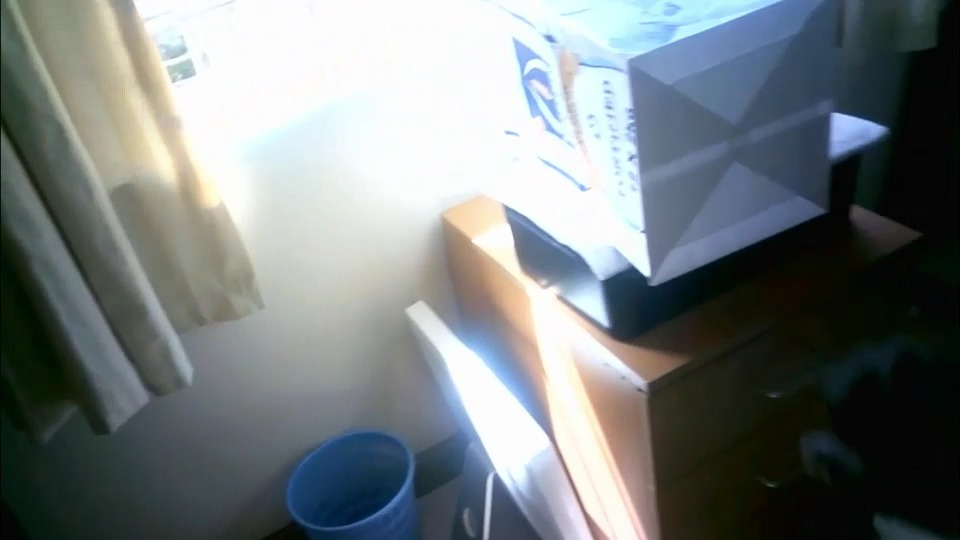wheat_flour_blue_label: (508, 2, 831, 285)
